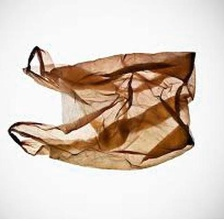plastic_bag: (3, 43, 203, 173)
